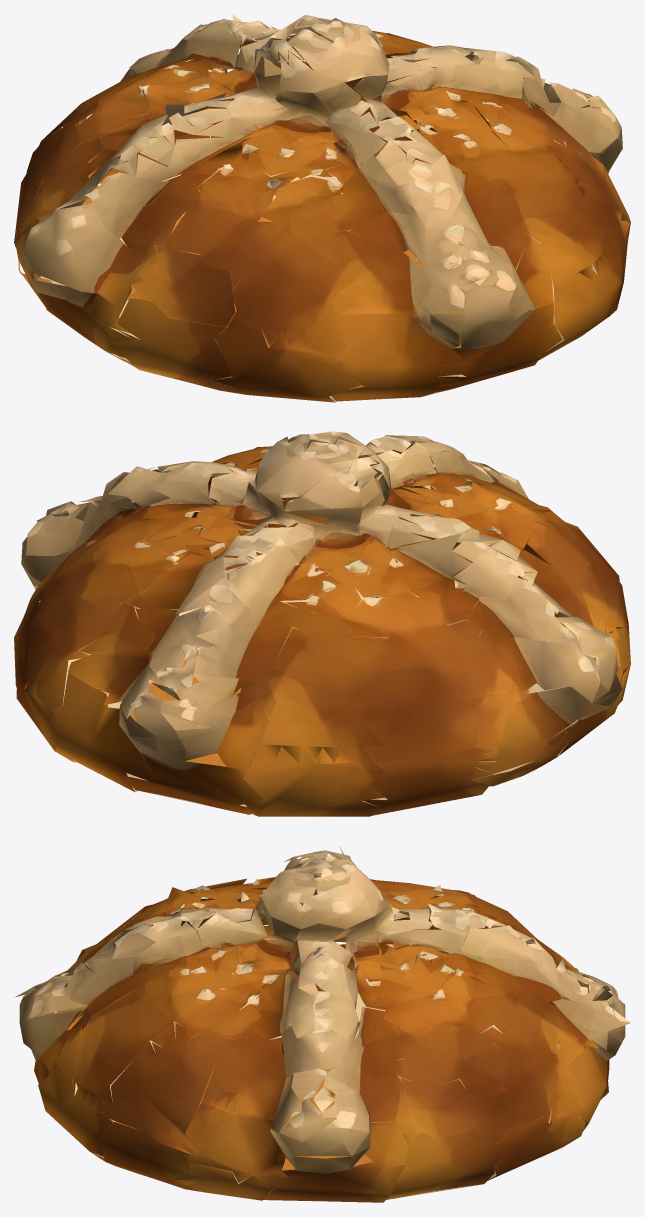
Rendered from pan_de_muerto.glb.
The picture shows the model from 3 angles, top to bottom: view 1: azimuth 30°, elevation 25°; view 2: azimuth 150°, elevation 25°; view 3: azimuth 270°, elevation 25°; orthographic projection. The views are drawn at different scales.
Visible parts, largest first — view 1: pan_de_muerto; view 2: pan_de_muerto; view 3: pan_de_muerto.
Boxes of the visible parts, x1,y1,x2,y2 form: pan_de_muerto: (14,15,630,402); pan_de_muerto: (14,431,630,816); pan_de_muerto: (15,846,630,1202).
Bounding box in the file's own units: 0.2242 × 0.1009 × 0.2241.
Materials: 1 (1 with a texture image).
